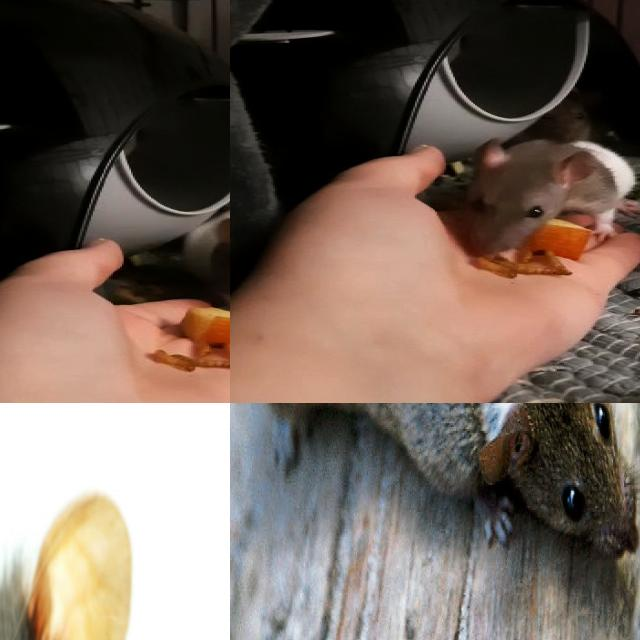rat: (230, 403, 640, 566), (0, 472, 147, 640), (466, 140, 634, 256), (159, 207, 230, 314)
